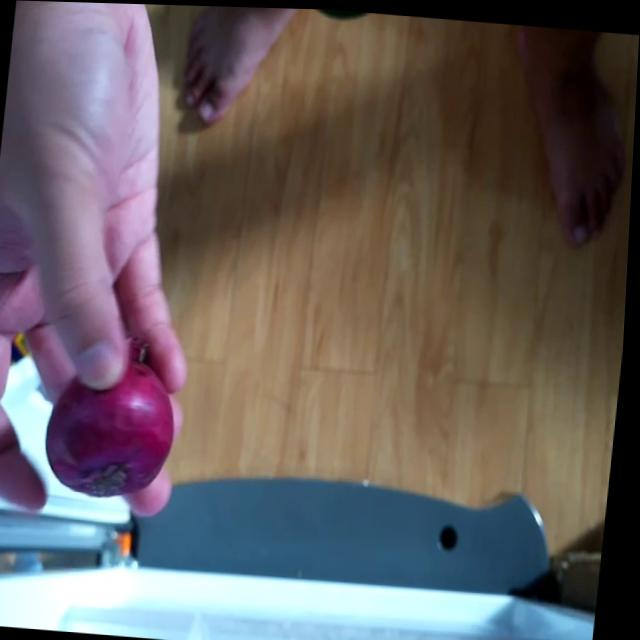onion: (43, 350, 186, 505)
